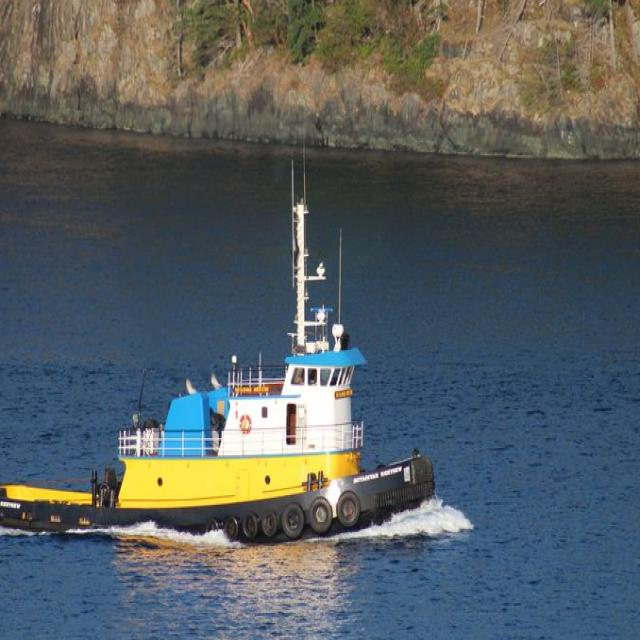houseboat: (0, 223, 434, 536)
